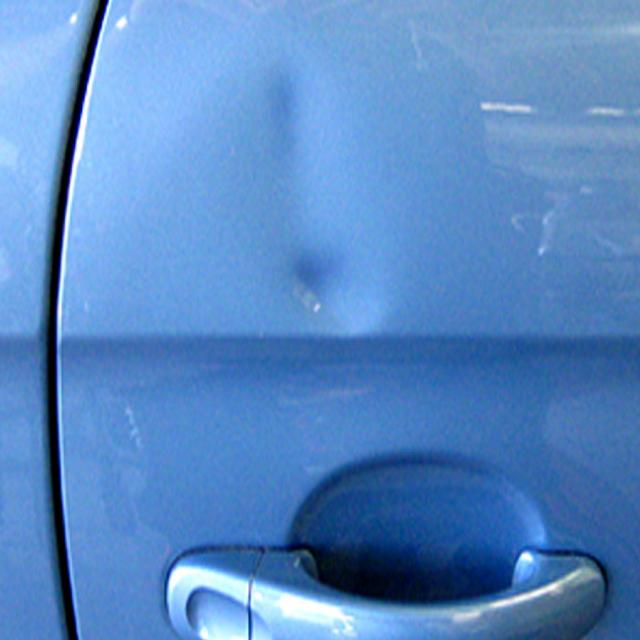dents: (278, 254, 378, 368), (260, 65, 306, 197)
